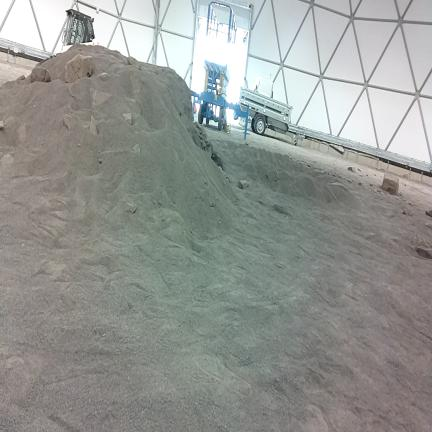Rock: (65, 55, 92, 82), (69, 80, 92, 106), (382, 173, 398, 194), (91, 89, 111, 105), (31, 67, 50, 82), (416, 244, 431, 259), (64, 114, 77, 130), (196, 125, 208, 142), (273, 205, 291, 216), (131, 73, 140, 94), (212, 153, 223, 169), (413, 234, 425, 247), (18, 123, 26, 142), (90, 116, 98, 135), (0, 154, 13, 165), (126, 57, 139, 68), (267, 170, 279, 181), (124, 202, 136, 213), (122, 113, 132, 125), (98, 72, 110, 81), (330, 182, 345, 188), (132, 144, 141, 154), (239, 180, 248, 189), (403, 207, 412, 215), (210, 198, 216, 207), (219, 167, 225, 175), (126, 58, 132, 65), (17, 75, 25, 80), (139, 64, 145, 70), (0, 121, 4, 130), (348, 167, 355, 172), (426, 210, 431, 217), (426, 222, 431, 229), (158, 199, 162, 206), (77, 142, 82, 147), (98, 158, 102, 163), (403, 174, 408, 178), (200, 134, 204, 139), (376, 190, 382, 193), (408, 202, 412, 206), (358, 182, 362, 186), (332, 173, 336, 177), (357, 168, 361, 172), (358, 174, 362, 177), (324, 170, 328, 173), (370, 183, 373, 187), (396, 196, 400, 199), (348, 179, 352, 182), (307, 164, 310, 167), (366, 174, 368, 176), (374, 174, 376, 176)
